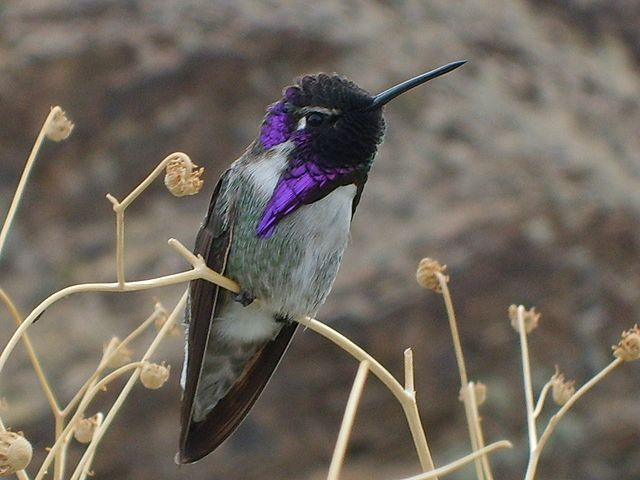calypte costae: (174, 56, 467, 463)
